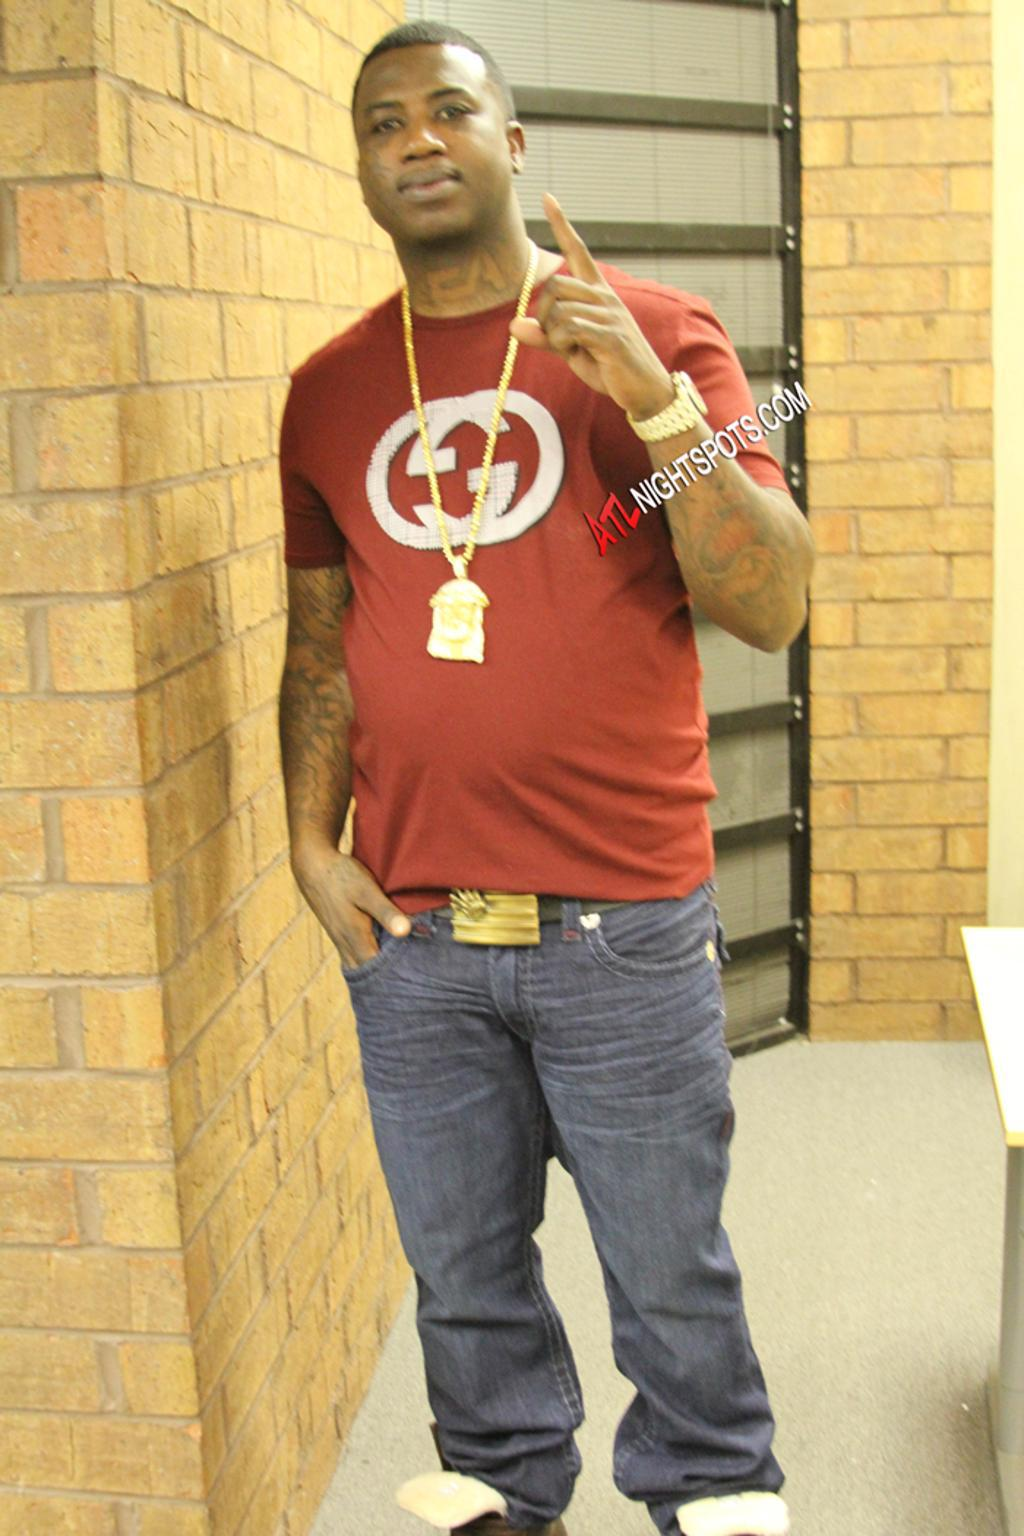face: (355, 49, 502, 235)
